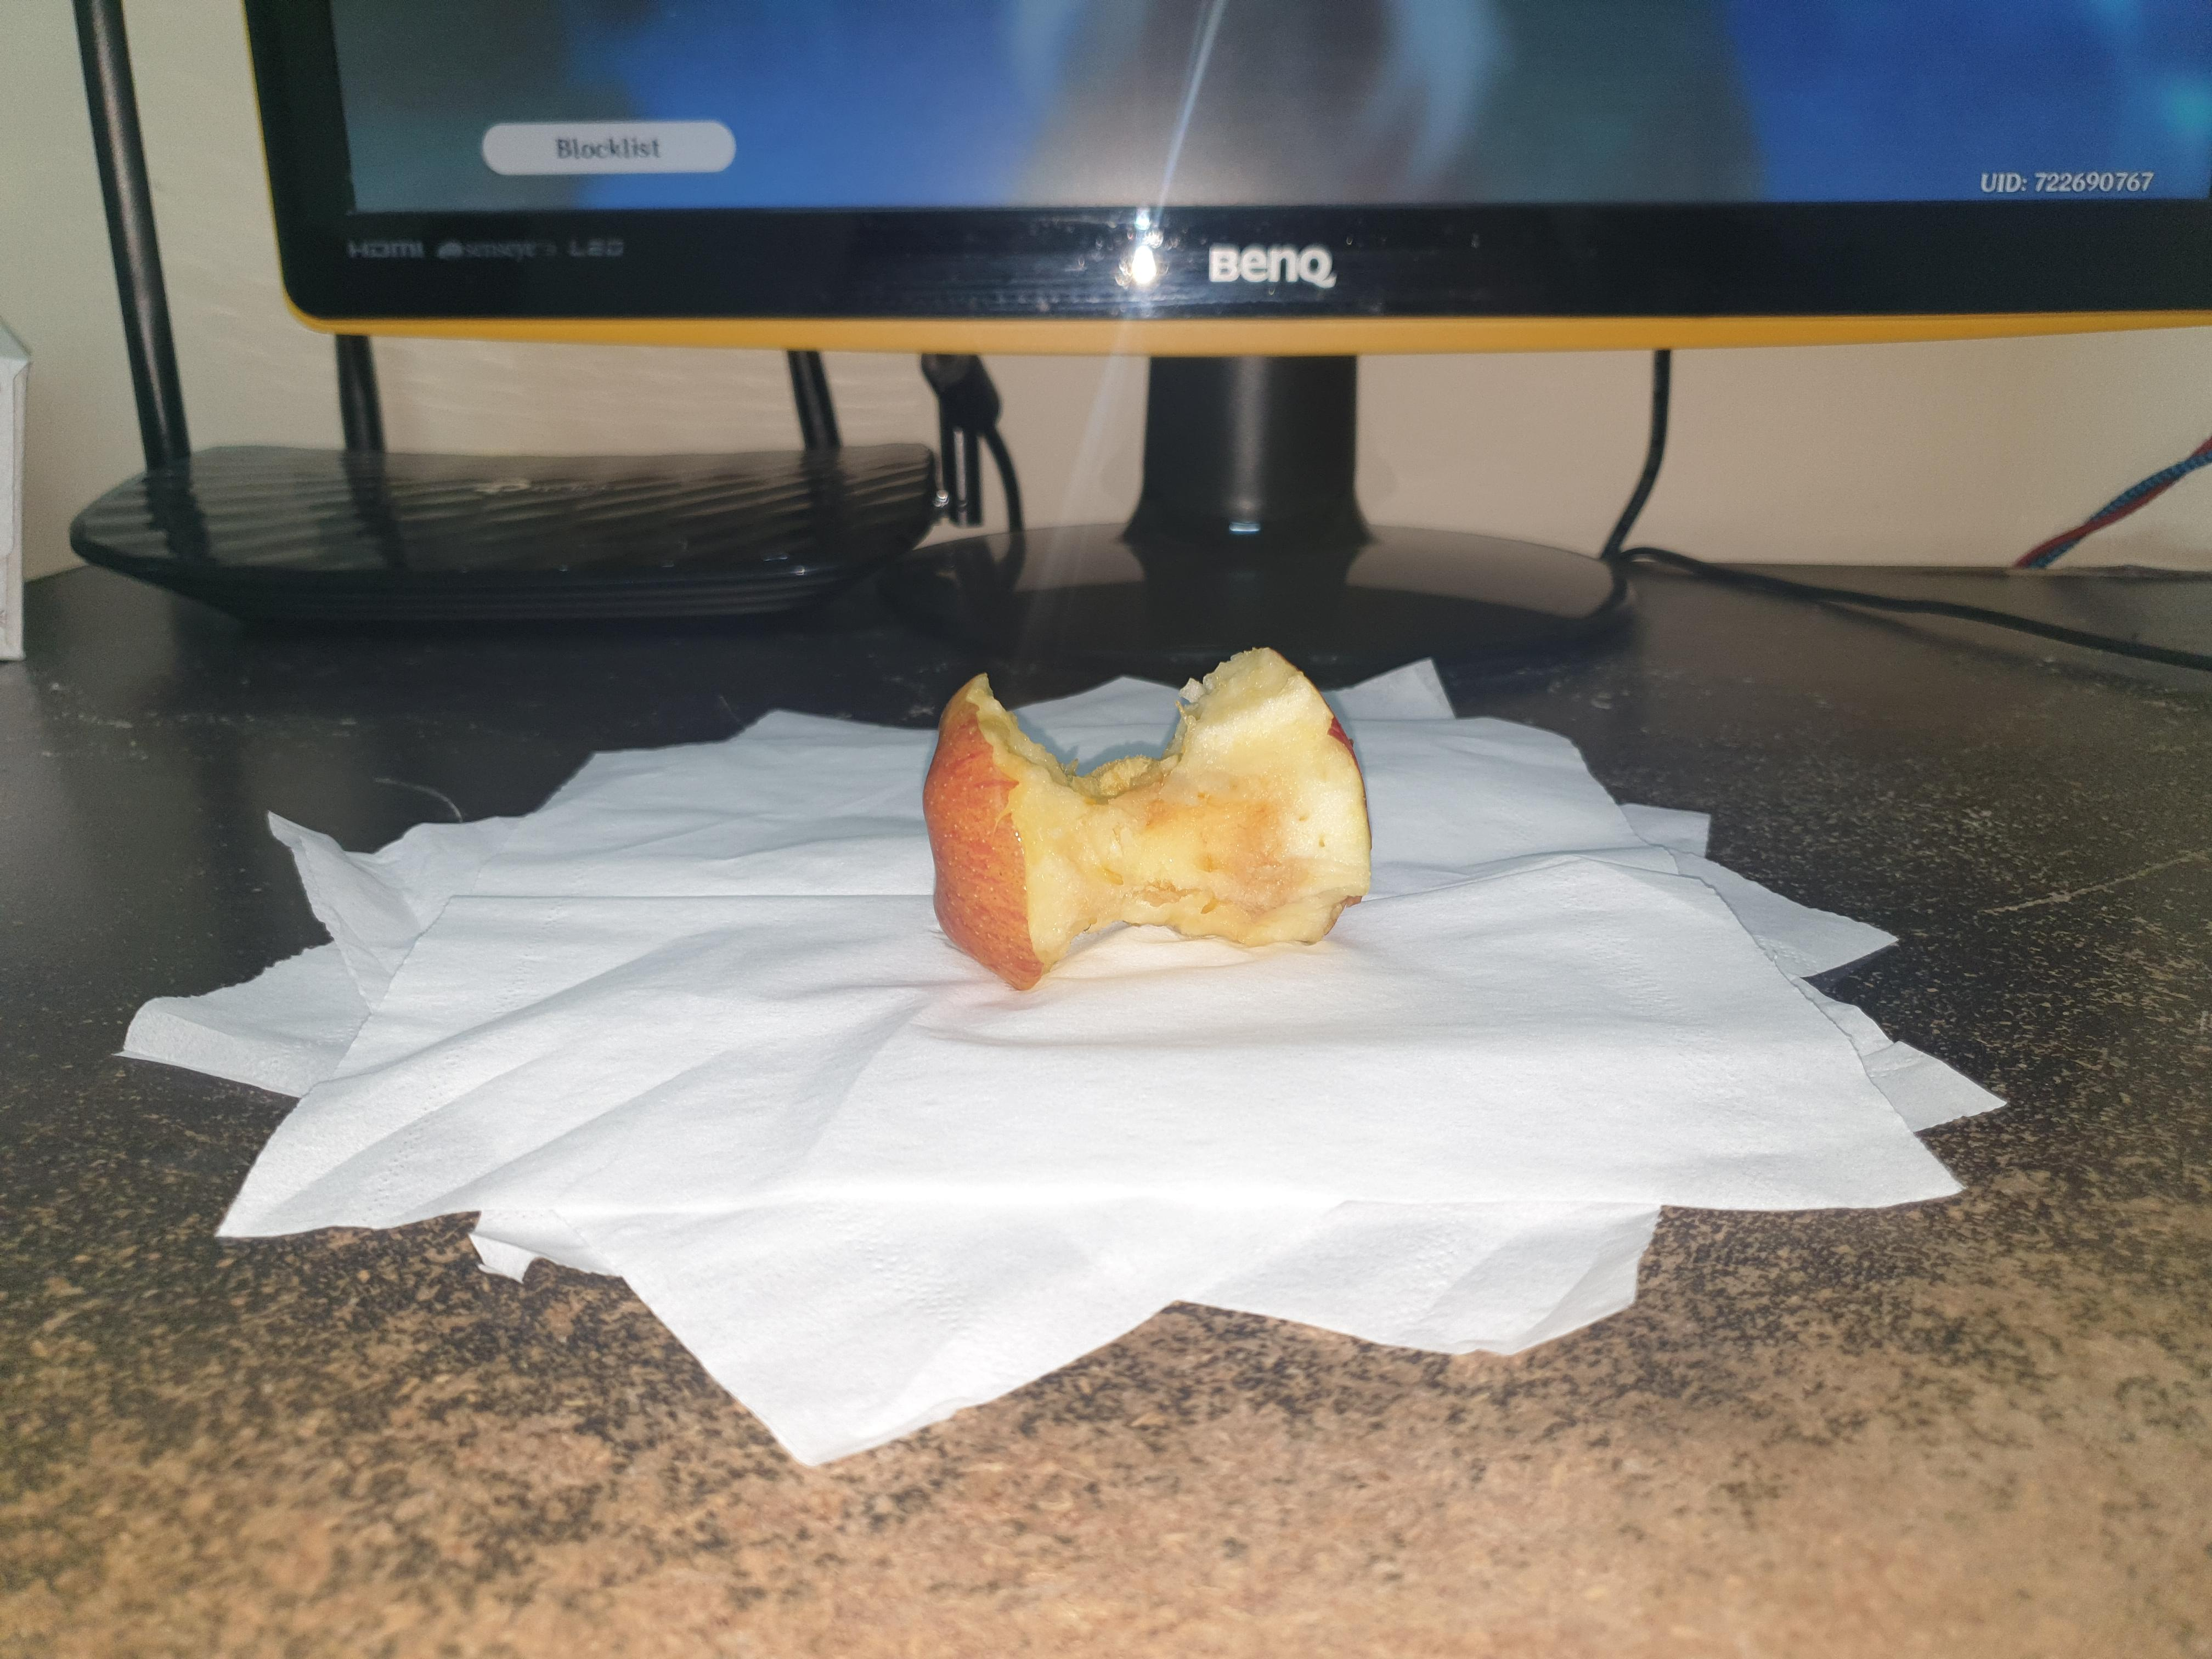Apple: (894, 640, 1428, 1002)
